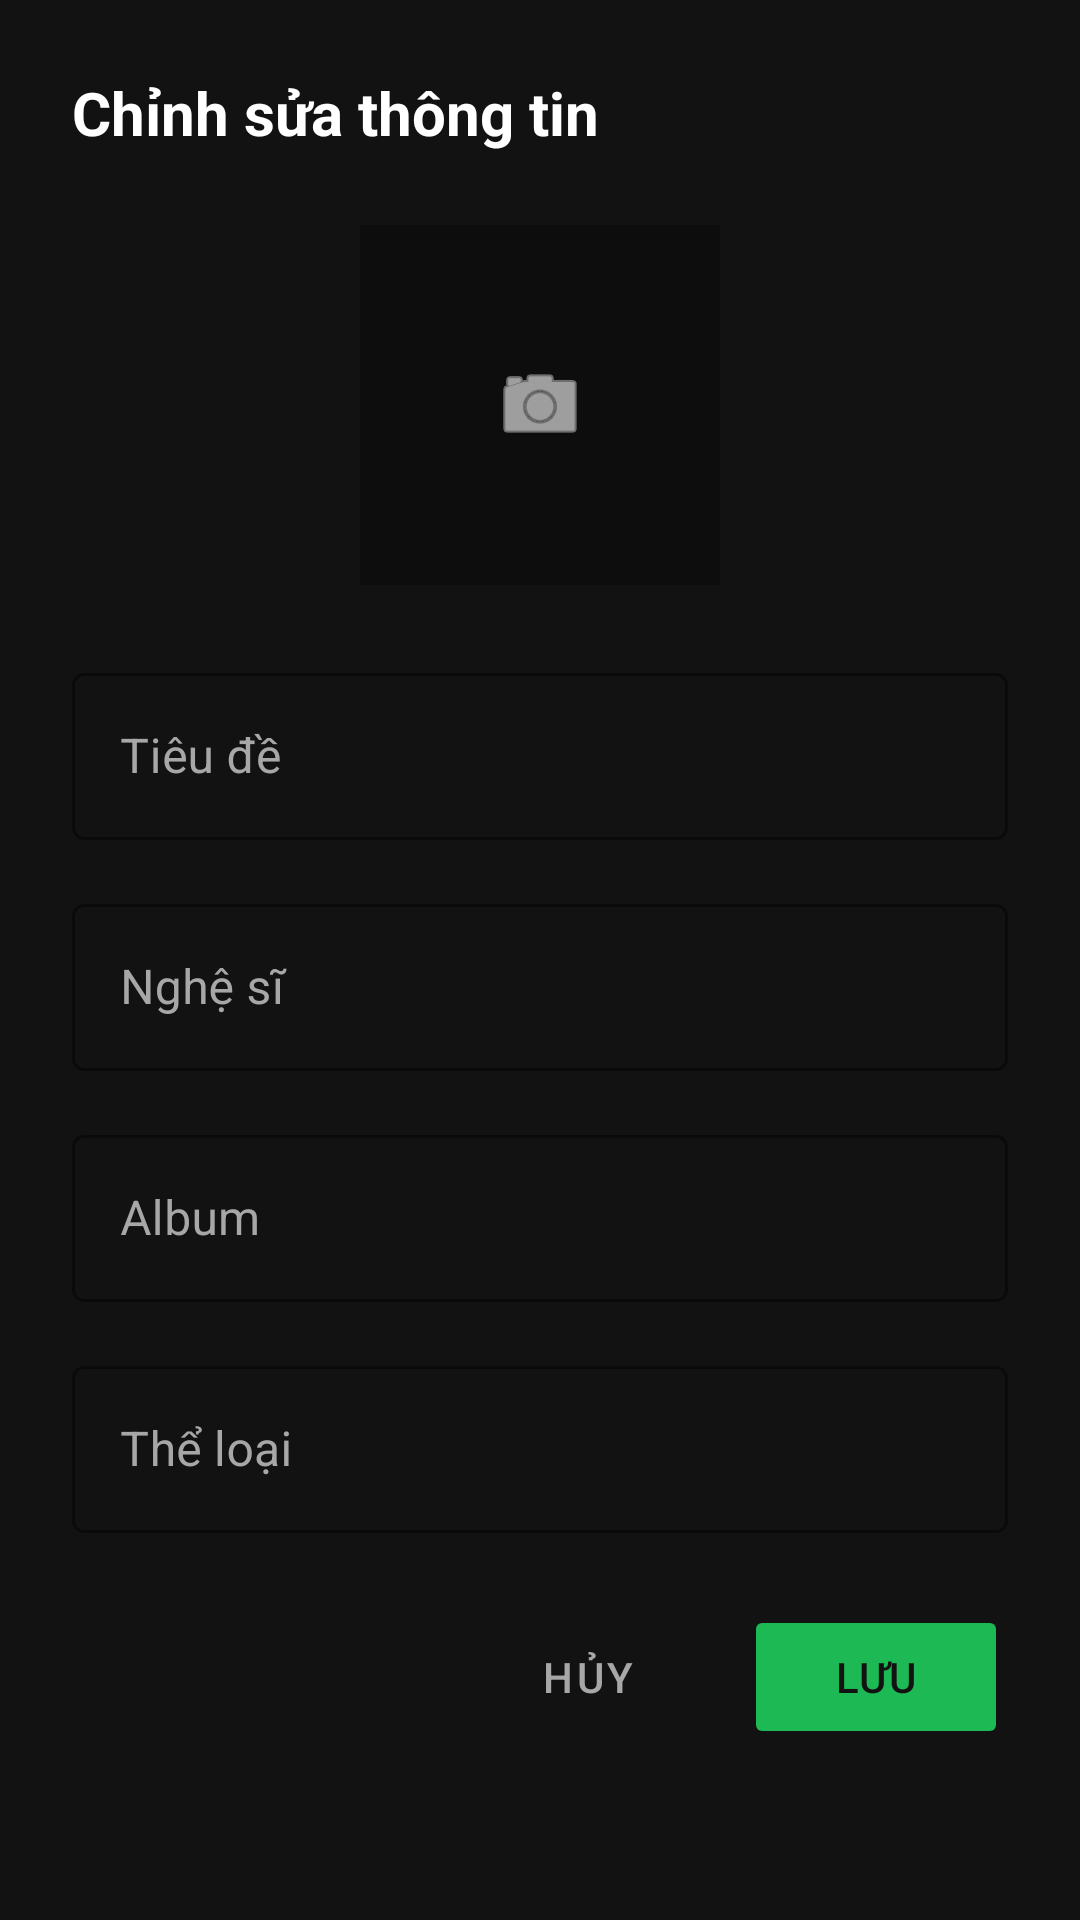

Where to tap for icons on this 1080px×1920px app screen, as (x=x, y=y):
Đổi ảnh: (x=540, y=403)
